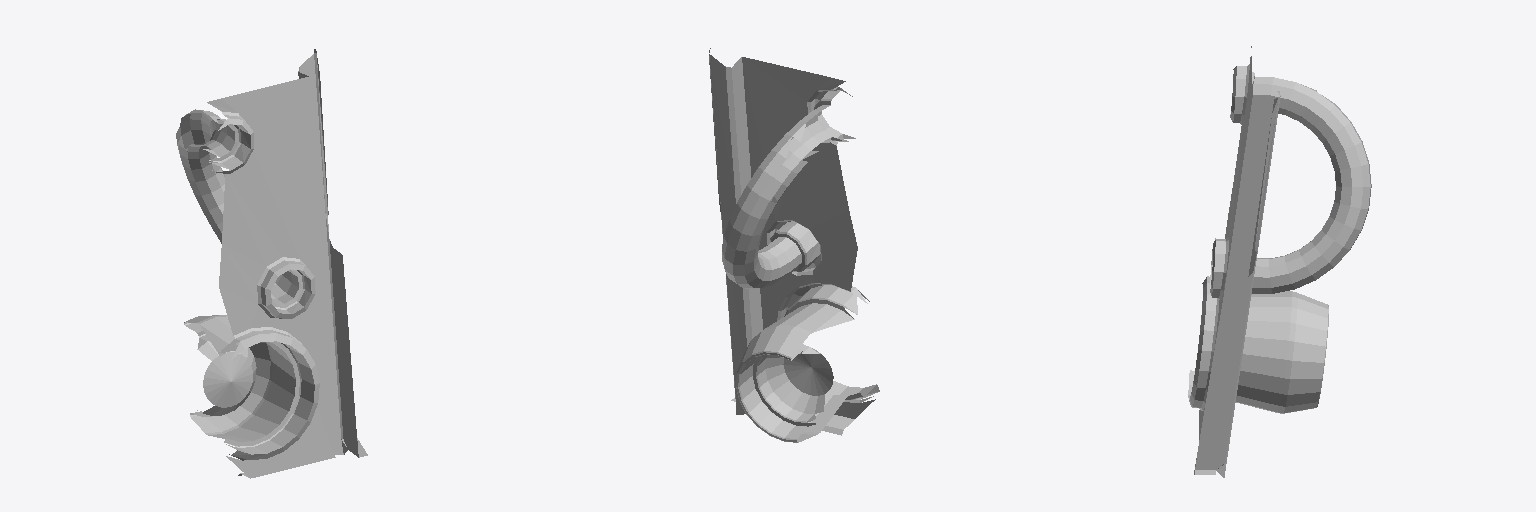
File: shard21.obj
The picture shows the model from 3 angles: view 1: azimuth 30°, elevation 25°; view 2: azimuth 150°, elevation 25°; view 3: azimuth 270°, elevation 25°; orthographic projection.
Parts seen in each view (by area): view 1: defaultMaterial.019; view 2: defaultMaterial.019; view 3: defaultMaterial.019.
Boxes of the visible parts, <box> form: defaultMaterial.019: <box>176,49,367,478</box>; defaultMaterial.019: <box>709,48,879,442</box>; defaultMaterial.019: <box>1188,46,1371,477</box>.
Size of the model in its own units: 3.12 by 8.32 by 3.57.